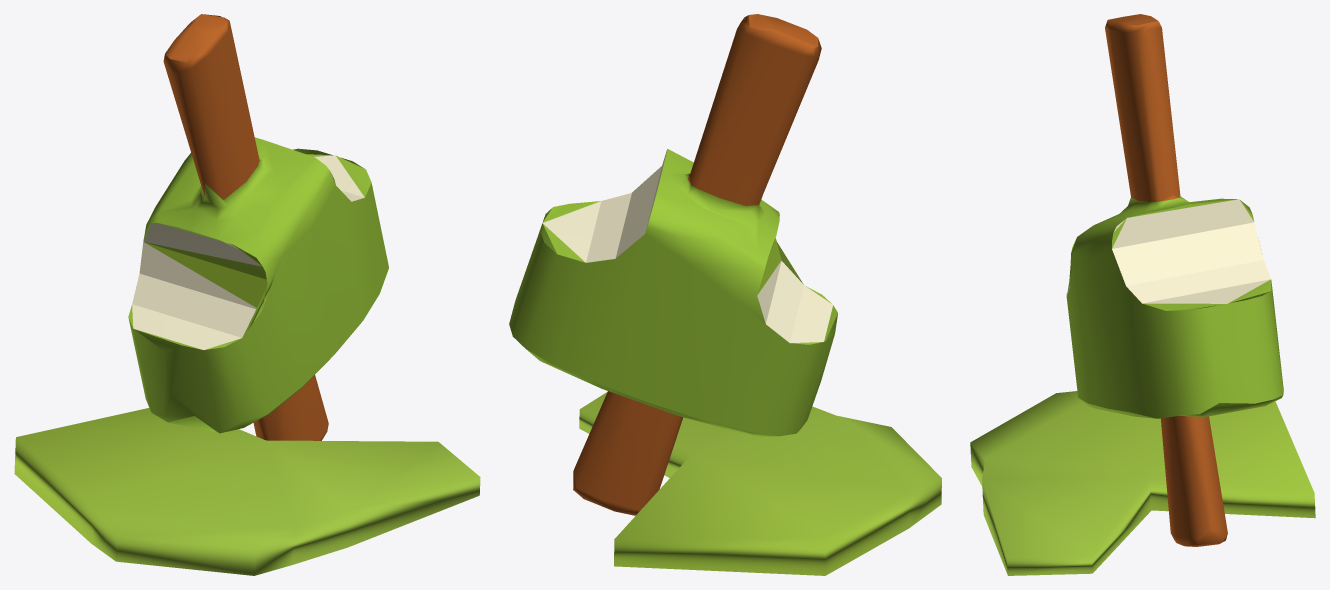
The model's file is gelato_sciolto_verde_LOD2.fbx.
3 views of the same model, side by side, from view 1: azimuth 30°, elevation 25°; view 2: azimuth 150°, elevation 25°; view 3: azimuth 270°, elevation 25° (orthographic). The views are drawn at different scales.
Visible parts, largest first — view 1: Cube_068; view 2: Cube_068; view 3: Cube_068.
Boxes of the visible parts, bbox=[...] form: Cube_068: bbox=[14, 14, 480, 575]; Cube_068: bbox=[509, 14, 941, 575]; Cube_068: bbox=[970, 14, 1315, 575].
Size of the model in its own units: 26.99 by 37.11 by 24.38.
Materials: 2 (2 with a texture image).
